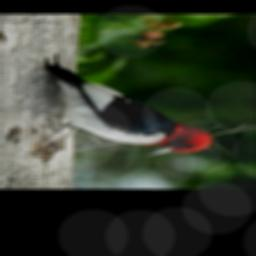Woodpecker: (45, 56, 212, 156)
